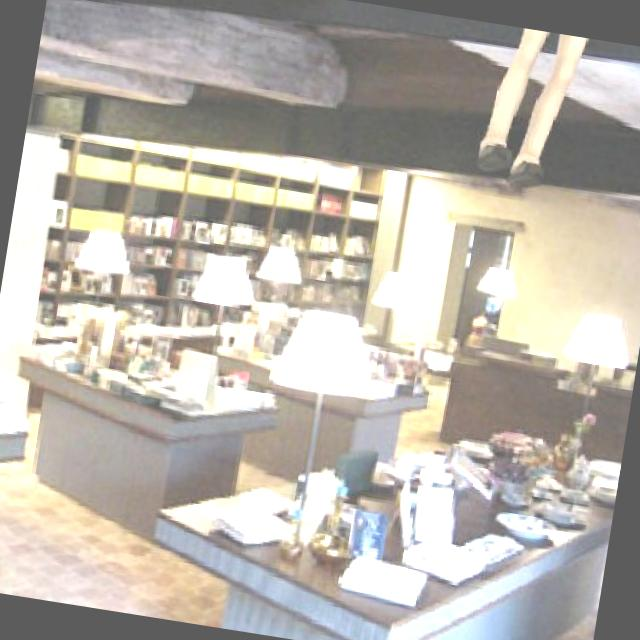Person: (470, 24, 591, 199)
